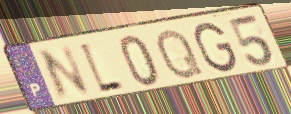0: (119, 33, 162, 88)
5: (226, 12, 276, 69)
G: (193, 21, 239, 75)
L: (76, 41, 128, 97)
N: (36, 43, 93, 104)
Q: (154, 27, 206, 82)
